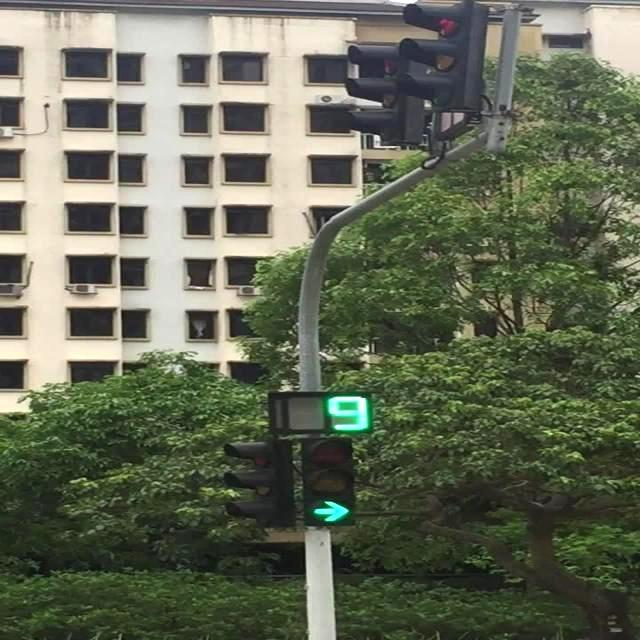Green: (303, 437, 357, 525)
